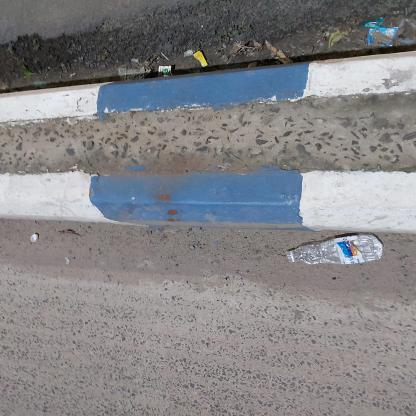plastik: (152, 286, 184, 386), (175, 32, 183, 40)
